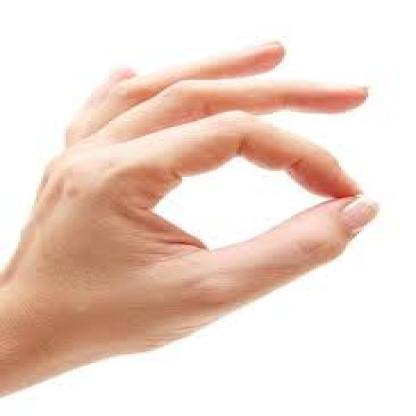ok: (0, 32, 380, 360)
